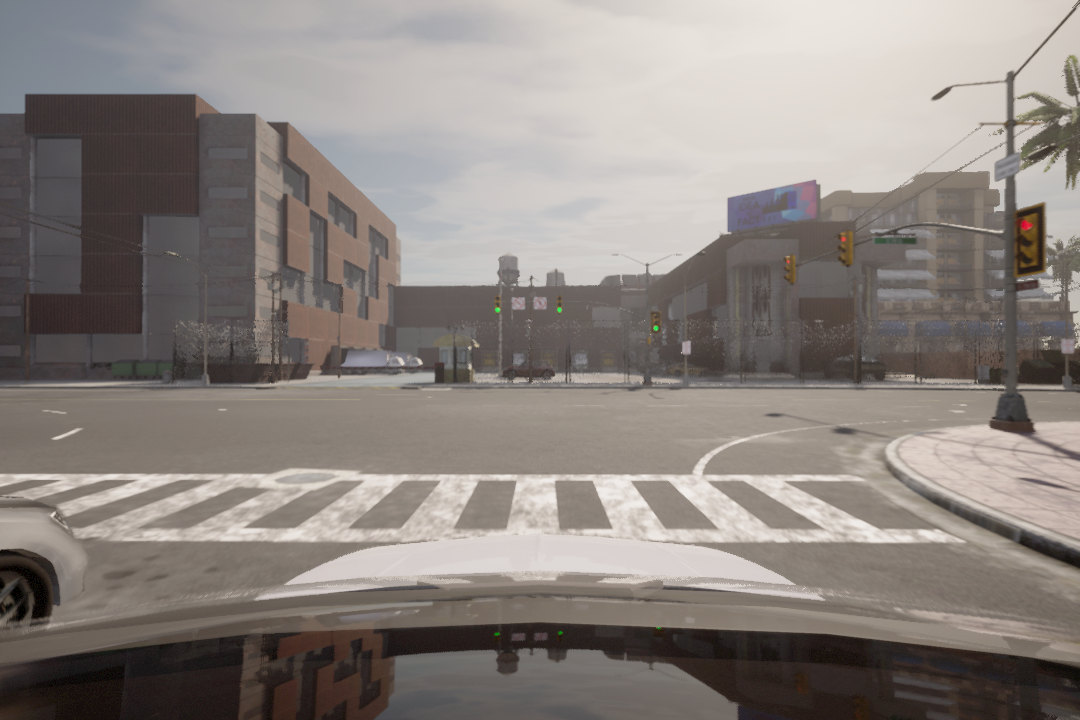TrafficLight: (1015, 211, 1046, 272), (781, 256, 799, 289), (839, 232, 855, 268), (650, 311, 661, 334), (556, 294, 565, 316), (494, 295, 502, 317)
walkside: (1, 468, 966, 564)
